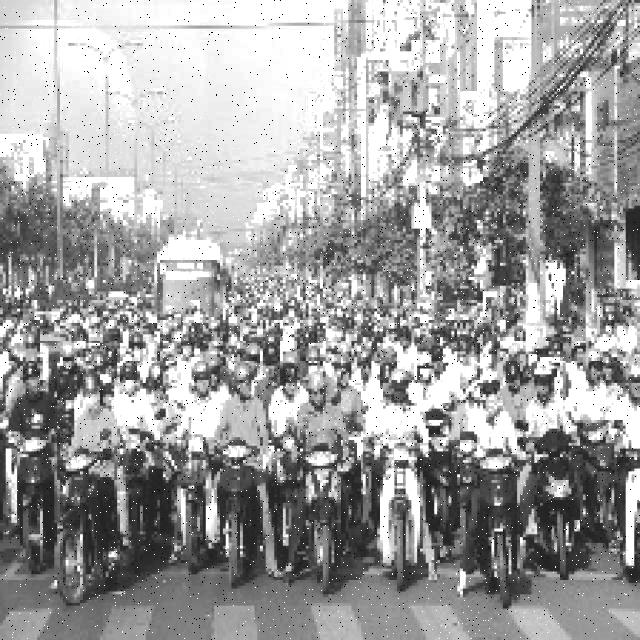Bike: (470, 422, 522, 596), (532, 404, 586, 563), (57, 429, 106, 595), (212, 430, 261, 578), (300, 448, 354, 582), (382, 422, 424, 578)
